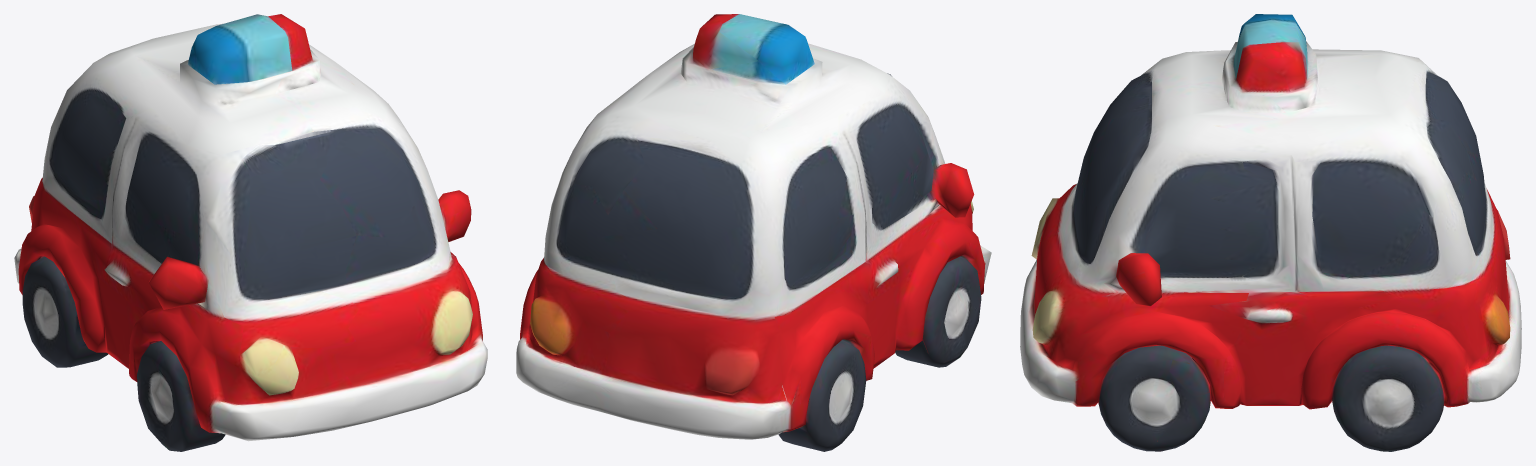
The model's file is ambulancia.glb.
The picture shows the model from 3 angles, left to right: view 1: azimuth 30°, elevation 25°; view 2: azimuth 150°, elevation 25°; view 3: azimuth 270°, elevation 25°; orthographic projection.
Parts seen in each view (by area): view 1: tripo_node_e09e8b1c-7eae-4528-9281-f79850761795; view 2: tripo_node_e09e8b1c-7eae-4528-9281-f79850761795; view 3: tripo_node_e09e8b1c-7eae-4528-9281-f79850761795.
Part boxes in pixels (box(x1,y1,x2,y2)): tripo_node_e09e8b1c-7eae-4528-9281-f79850761795: box(14, 14, 487, 451); tripo_node_e09e8b1c-7eae-4528-9281-f79850761795: box(516, 14, 991, 451); tripo_node_e09e8b1c-7eae-4528-9281-f79850761795: box(1020, 14, 1521, 451).
Size of the model in its own units: 0.7385 by 0.765 by 0.9798.
1 material, 1 textured.
